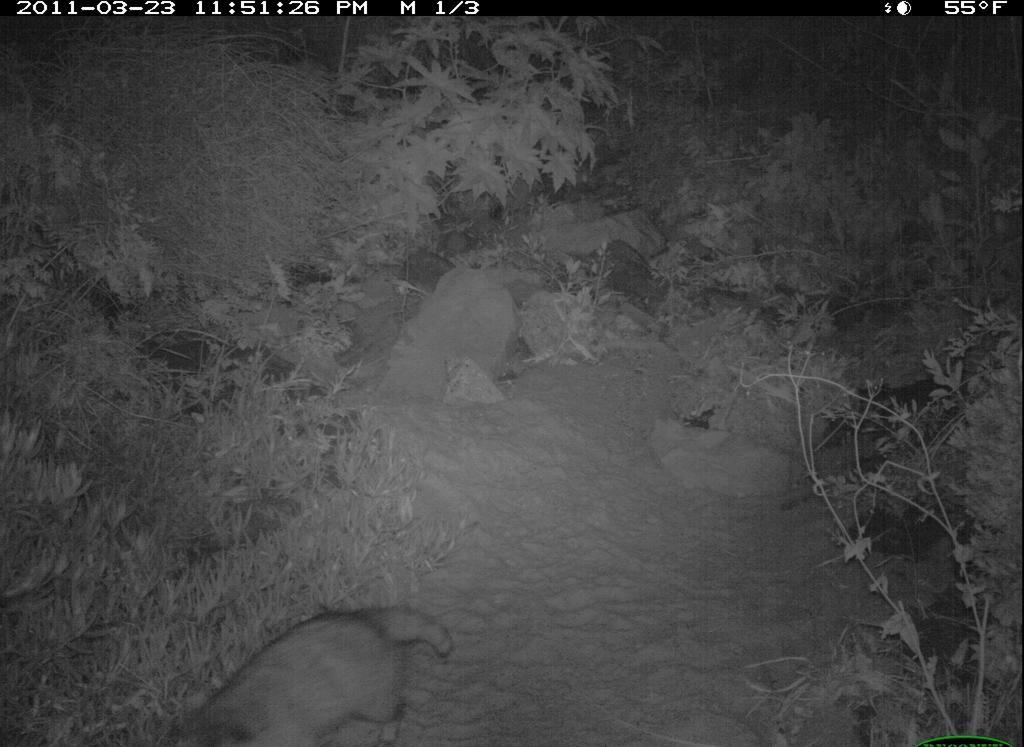raccoon: (164, 598, 463, 747)
